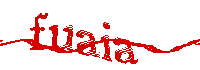a: (112, 36, 137, 65), (77, 29, 98, 58)
f: (30, 11, 48, 52)
i: (100, 20, 114, 62)
u: (49, 22, 74, 54)
